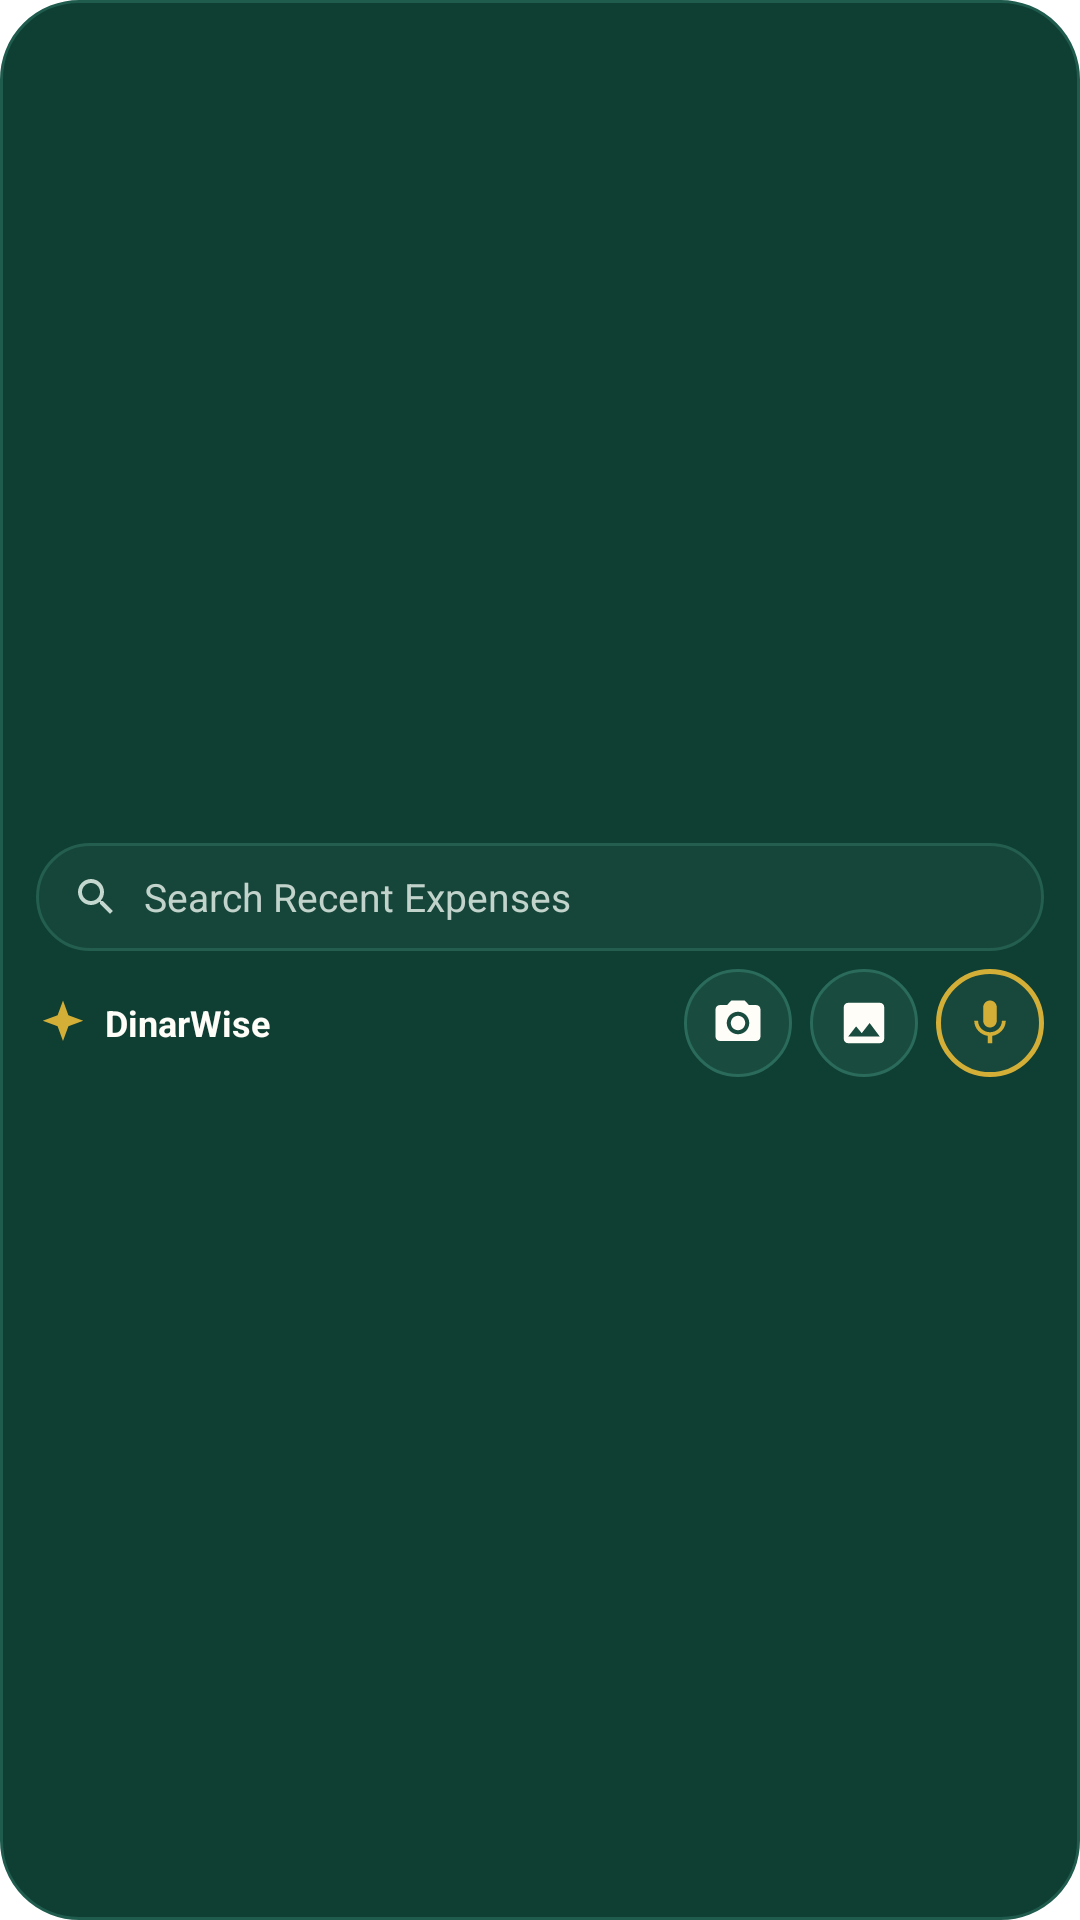

Screen size 1080×1920. Icon name, then its box in pixels as (x1, y1, x2, y2):
Camera: (715, 1000, 761, 1041)
Media: (843, 1002, 885, 1044)
Voice: (974, 1000, 1006, 1044)
widget search: (78, 879, 113, 914)
